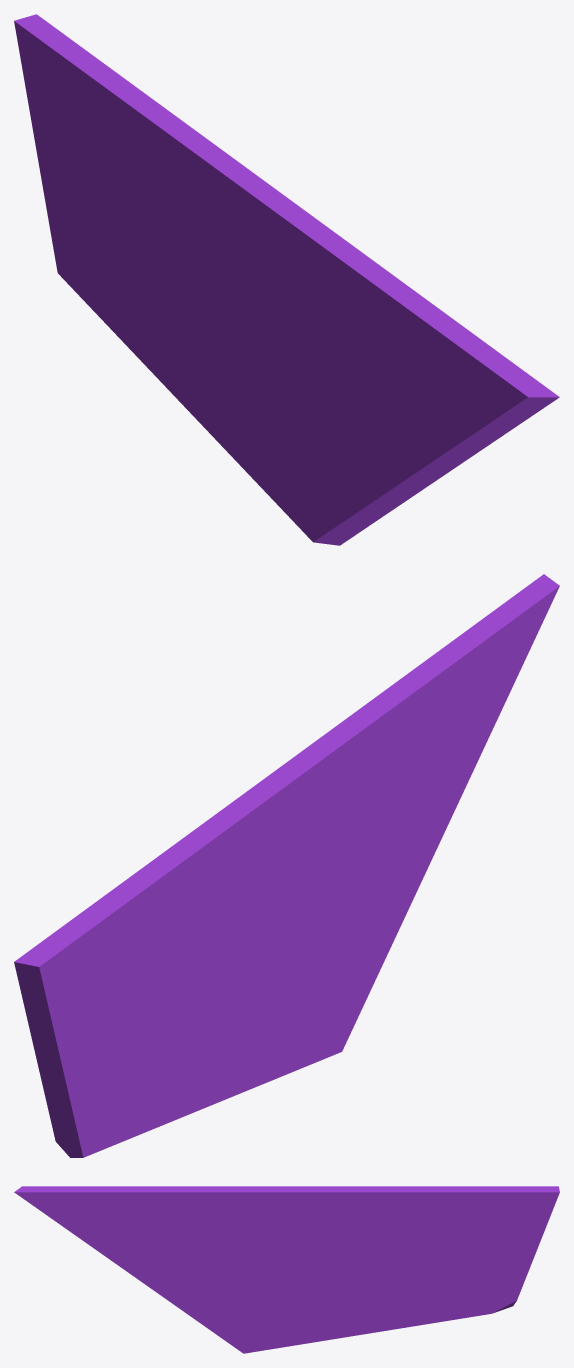
Rendered from Glass_67_5_chunks.fbx.
3 views of the same model, one above another, from view 1: azimuth 30°, elevation 25°; view 2: azimuth 150°, elevation 25°; view 3: azimuth 270°, elevation 25° (orthographic). The views are drawn at different scales.
Visible parts, largest first — view 1: Glass_67_5_0, Glass_67_5_3, Glass_67_5_5, Glass_67_5_2, Glass_67_5_4, Glass_67_5_6, Glass_67_5_1; view 2: Glass_67_5_0, Glass_67_5_3, Glass_67_5_5, Glass_67_5_2, Glass_67_5_6, Glass_67_5_4, Glass_67_5_1; view 3: Glass_67_5_0, Glass_67_5_5, Glass_67_5_3, Glass_67_5_1, Glass_67_5_6, Glass_67_5_2, Glass_67_5_4.
Part boxes in pixels (x1,y1,x2,y2): Glass_67_5_0: [14, 14, 246, 291]; Glass_67_5_3: [209, 168, 432, 380]; Glass_67_5_5: [318, 304, 559, 510]; Glass_67_5_2: [45, 204, 210, 423]; Glass_67_5_4: [279, 376, 395, 543]; Glass_67_5_6: [195, 213, 292, 486]; Glass_67_5_1: [201, 348, 345, 545]; Glass_67_5_0: [14, 806, 244, 1117]; Glass_67_5_3: [227, 657, 462, 913]; Glass_67_5_5: [348, 574, 559, 880]; Glass_67_5_2: [50, 973, 238, 1157]; Glass_67_5_6: [222, 873, 320, 1045]; Glass_67_5_4: [308, 873, 425, 1057]; Glass_67_5_1: [229, 1007, 327, 1097]; Glass_67_5_0: [341, 1186, 559, 1285]; Glass_67_5_5: [14, 1186, 268, 1315]; Glass_67_5_3: [123, 1186, 348, 1264]; Glass_67_5_1: [237, 1266, 395, 1353]; Glass_67_5_6: [262, 1217, 363, 1326]; Glass_67_5_2: [384, 1276, 522, 1328]; Glass_67_5_4: [190, 1293, 269, 1348].
Bounding box in the file's own units: 27.2 × 338 × 1037.
